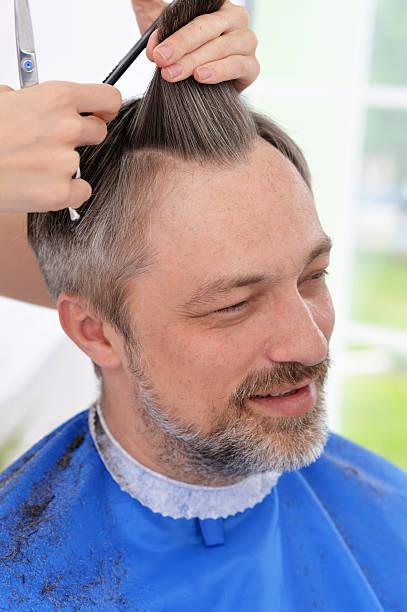grey hair: (112, 152, 132, 246), (83, 222, 112, 259)
